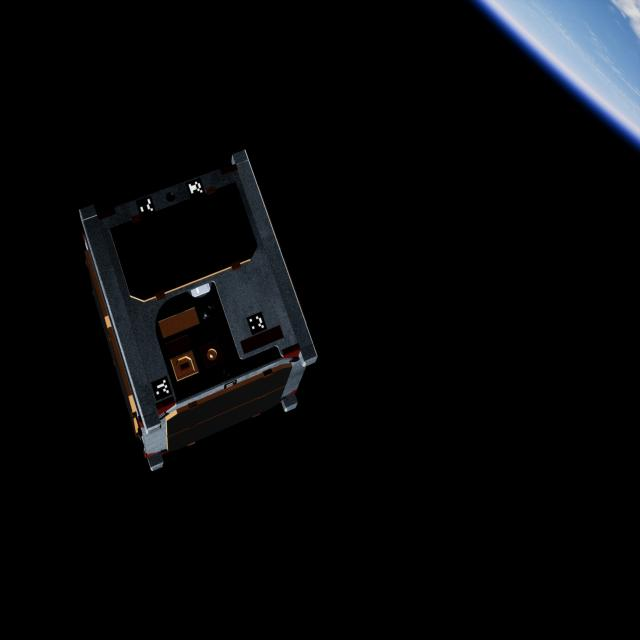medium_debris: (75, 152, 318, 484)
